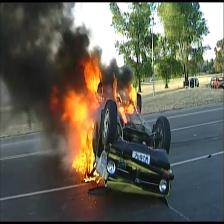fire: (41, 56, 152, 192)
smoke: (0, 0, 70, 102)
